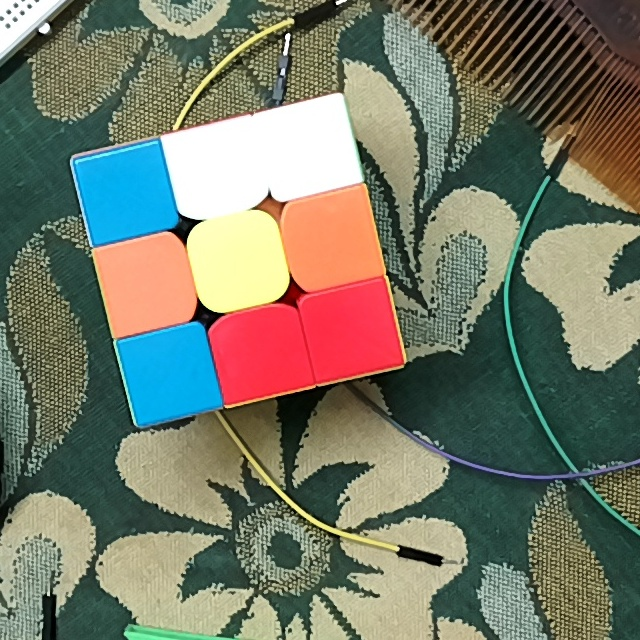tile: (295, 205, 371, 277), (271, 114, 346, 185), (115, 246, 184, 322), (182, 137, 253, 210), (225, 317, 298, 388), (91, 156, 161, 229), (313, 297, 387, 364), (136, 340, 206, 408), (204, 229, 273, 297)
